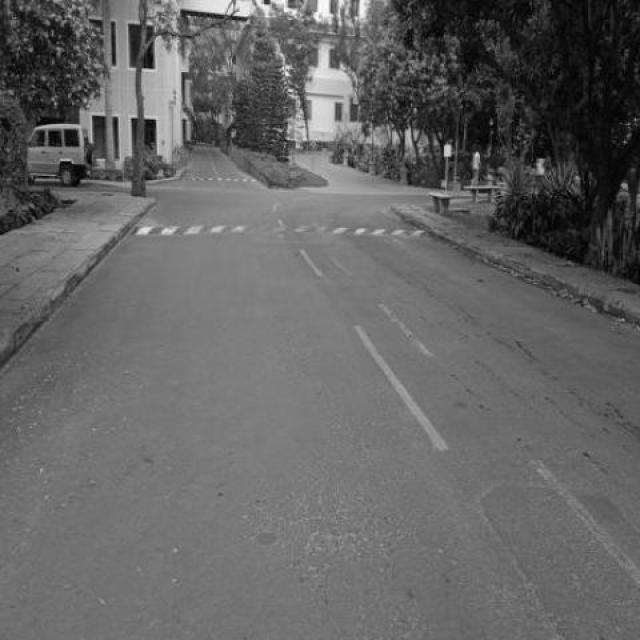Speed Bump: (133, 219, 428, 239), (187, 176, 254, 183)
